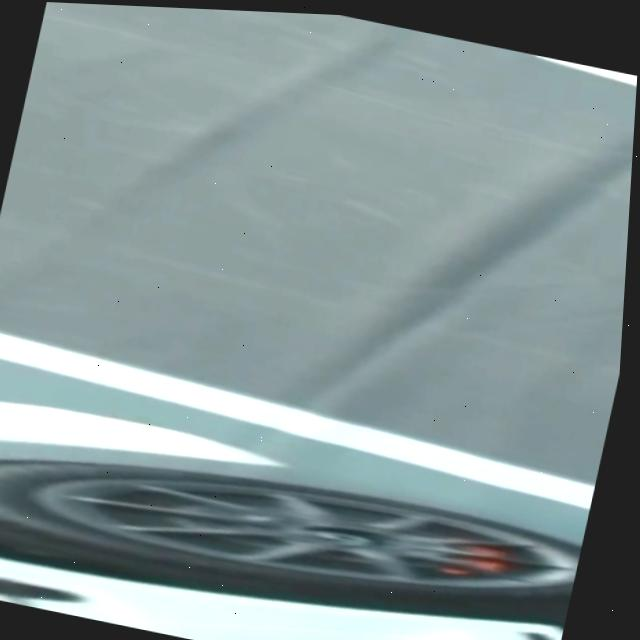center: (536, 54, 637, 86)
left: (0, 333, 595, 509)
